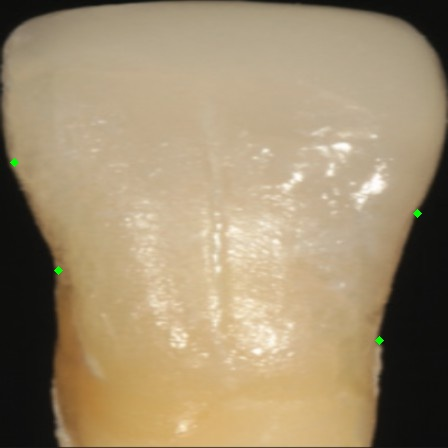coin_1: (379, 340, 399, 360)
coin_2: (417, 213, 437, 233)
coin_3: (58, 270, 78, 290)
coin_4: (14, 162, 34, 182)
